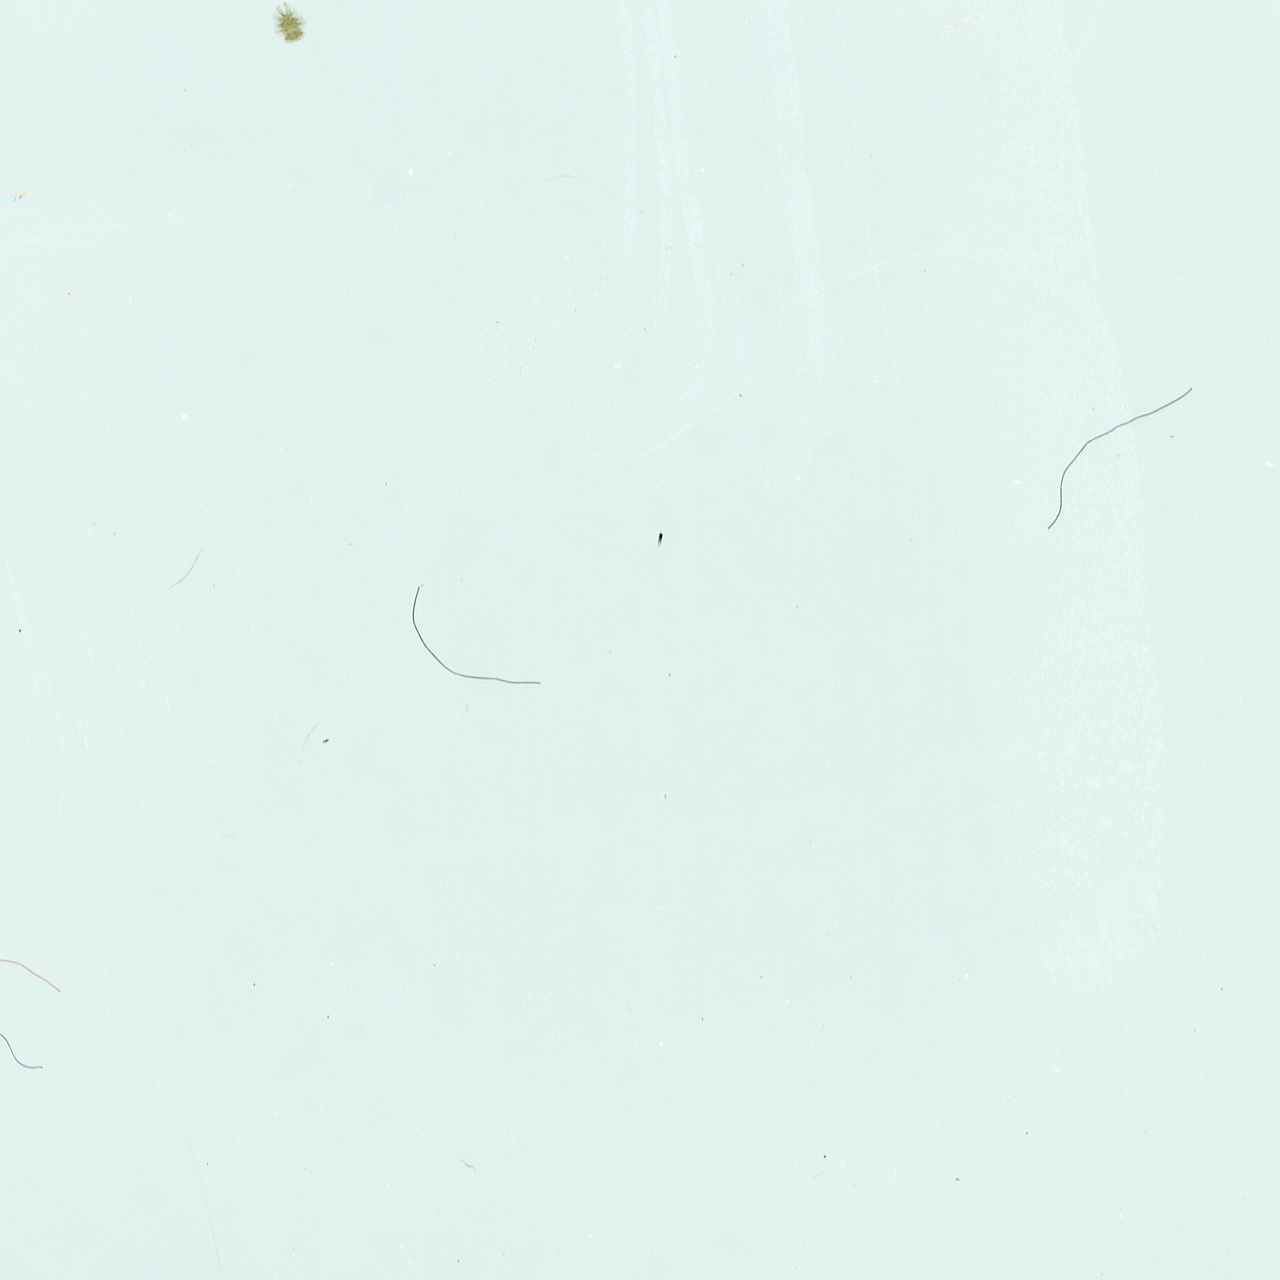arthropod: (262, 3, 314, 45)
